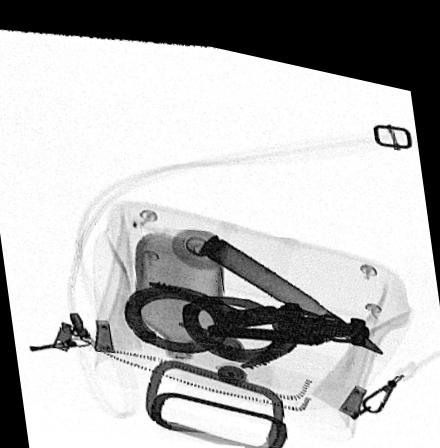Bullet: (201, 222, 383, 337)
Gun: (204, 299, 346, 331)
HandCuffs: (124, 272, 370, 359)
